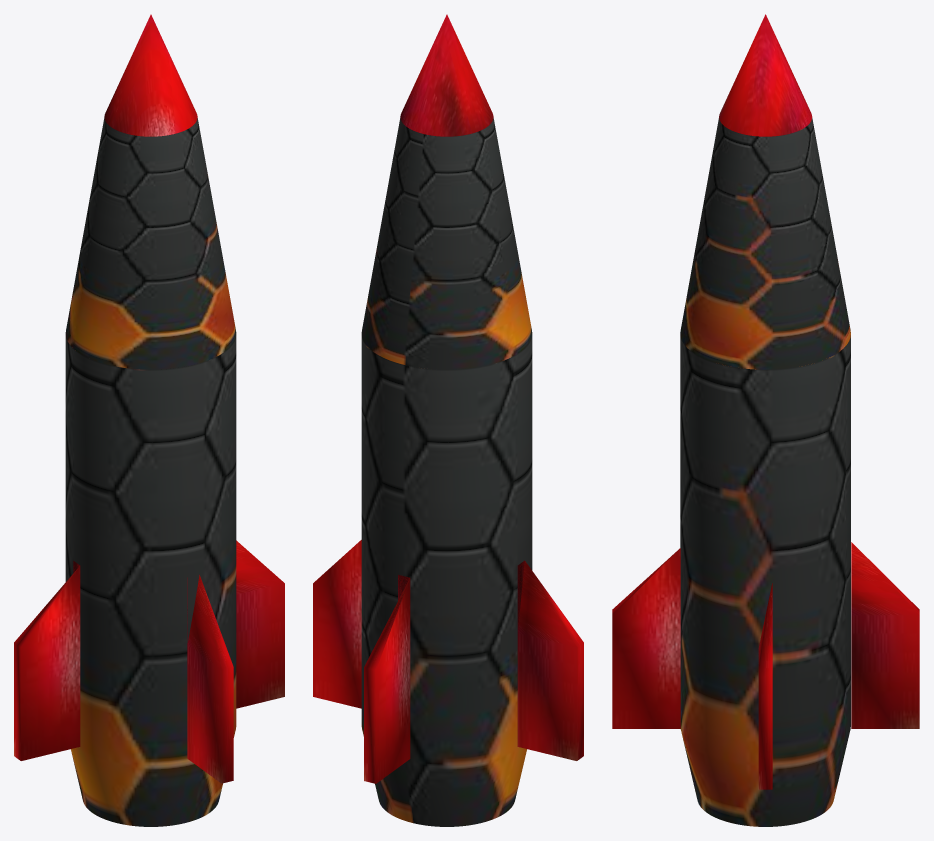
The model's file is racheta.fbx.
3 views of the same model, side by side, from view 1: azimuth 30°, elevation 25°; view 2: azimuth 150°, elevation 25°; view 3: azimuth 270°, elevation 25° (orthographic).
Parts seen in each view (by area): view 1: Cylinder, Cylinder.001, Cube.001, Cube.003, Cube, Cone; view 2: Cylinder, Cylinder.001, Cube.001, Cube.002, Cube, Cone; view 3: Cylinder, Cylinder.001, Cube.002, Cube.003, Cone, Cube.
Boxes of the visible parts, <box> form: Cylinder: <box>65,335,236,826</box>; Cylinder.001: <box>65,118,236,369</box>; Cube.001: <box>14,561,80,760</box>; Cube.003: <box>187,574,233,783</box>; Cube: <box>236,540,284,708</box>; Cone: <box>104,14,197,136</box>; Cylinder: <box>361,335,532,826</box>; Cylinder.001: <box>361,118,532,369</box>; Cube.001: <box>517,560,583,760</box>; Cube.002: <box>364,574,410,783</box>; Cube: <box>313,540,361,708</box>; Cone: <box>400,14,493,136</box>; Cylinder: <box>680,335,850,826</box>; Cylinder.001: <box>680,118,850,369</box>; Cube.002: <box>851,542,919,728</box>; Cube.003: <box>612,548,680,728</box>; Cone: <box>719,14,812,136</box>; Cube: <box>758,583,772,789</box>.
Bounding box in the file's own units: 892 × 2533 × 900.
